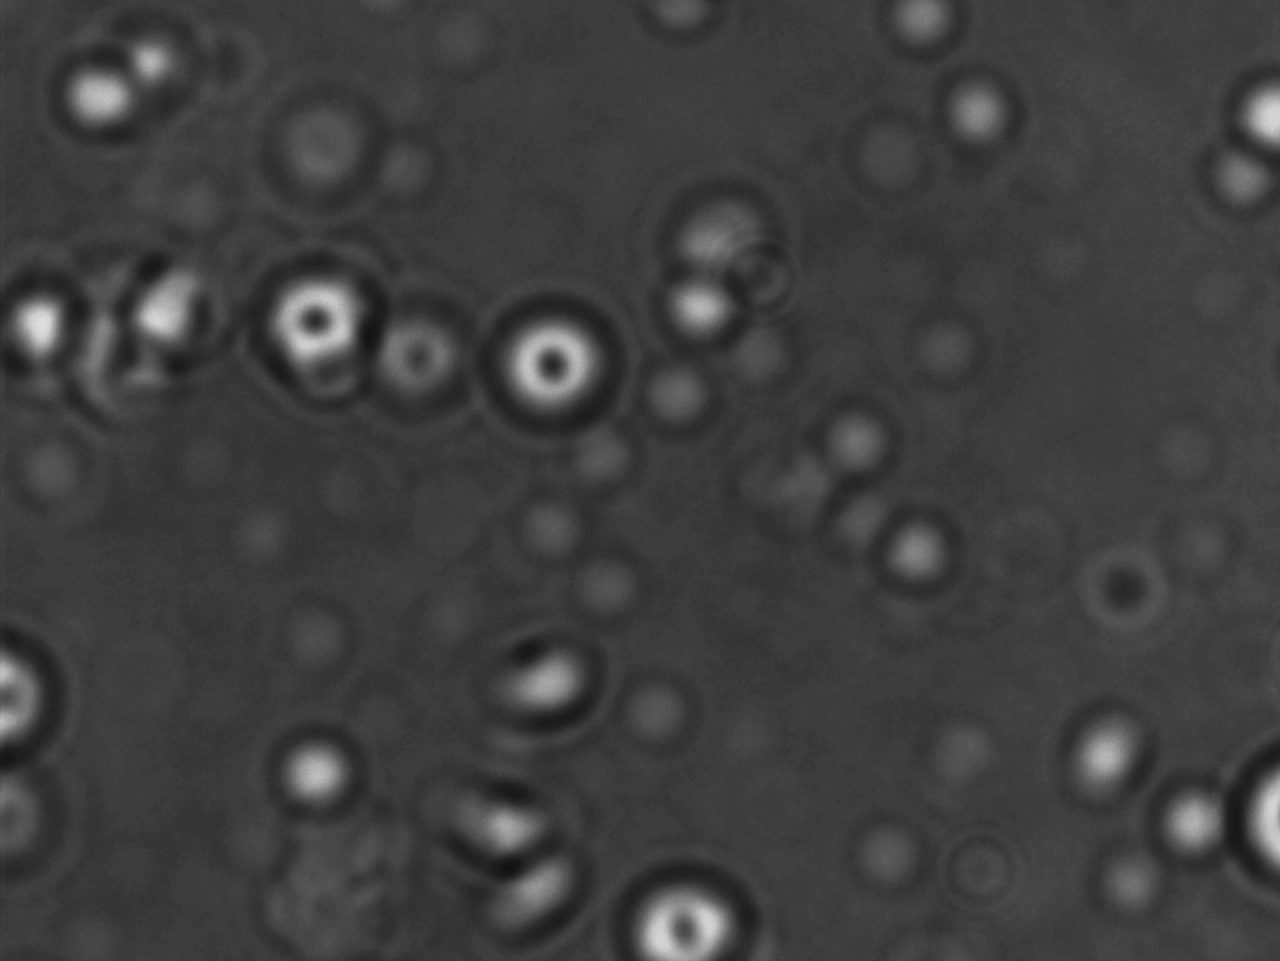depth:32: (486, 290, 627, 426), (249, 252, 377, 403), (613, 867, 750, 956)
